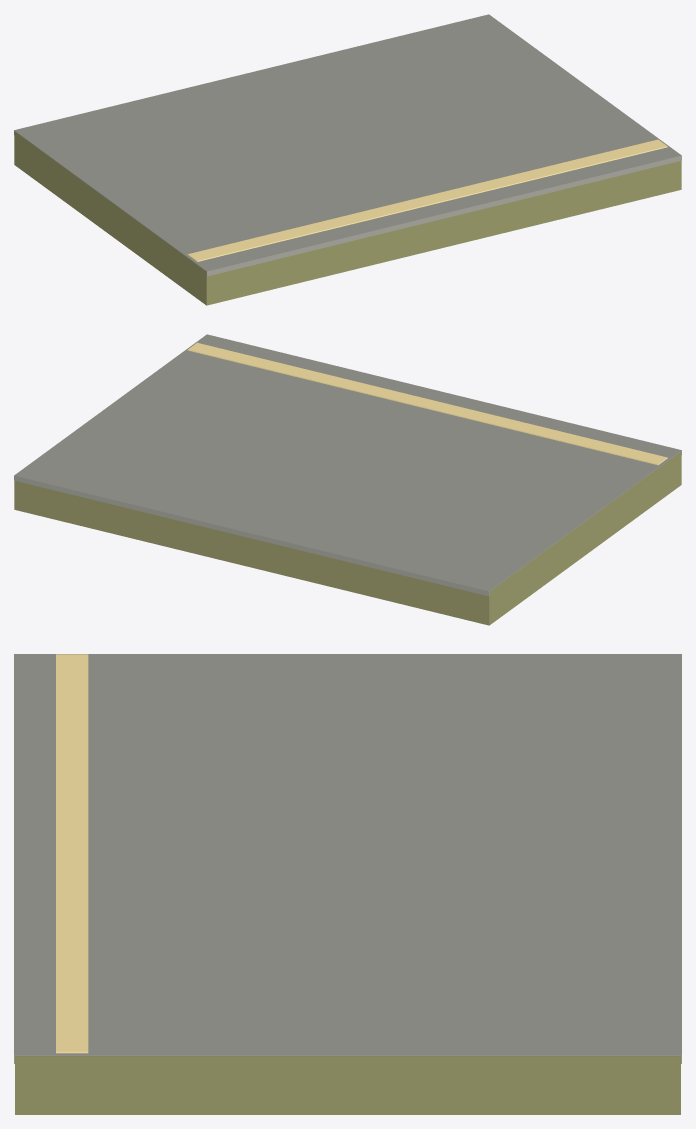
The model's file is SM_KitAnden_F7_v0_LOD1.fbx.
3 views of the same model, one above another, from view 1: azimuth 30°, elevation 25°; view 2: azimuth 150°, elevation 25°; view 3: azimuth 270°, elevation 25° (orthographic). The views are drawn at different scales.
Parts seen in each view (by area): view 1: SM_kit_anden_v0_LOD1; view 2: SM_kit_anden_v0_LOD1; view 3: SM_kit_anden_v0_LOD1.
Part boxes in pixels (x1=…): SM_kit_anden_v0_LOD1: x1=14, y1=14, x2=681, y2=305; SM_kit_anden_v0_LOD1: x1=14, y1=334, x2=681, y2=625; SM_kit_anden_v0_LOD1: x1=14, y1=654, x2=681, y2=1114.
Bounding box in the file's own units: 9.98 × 0.71 × 7.02.
